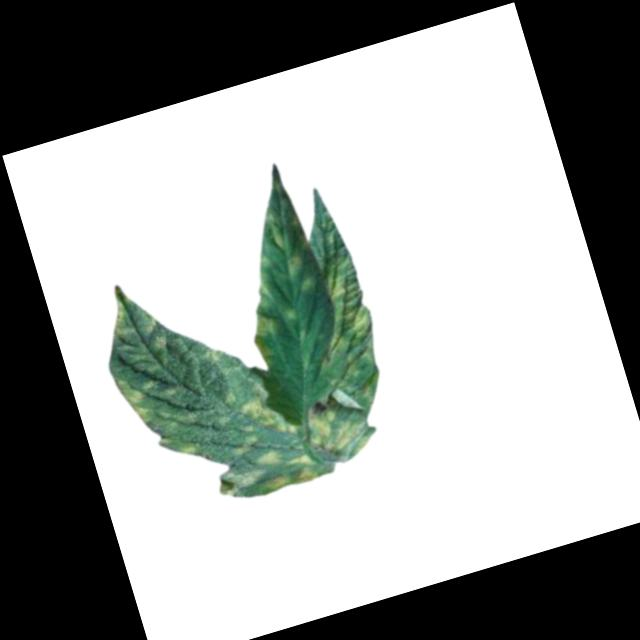Leaf_Mold: (267, 252, 411, 470), (192, 370, 318, 508), (112, 361, 201, 473), (244, 305, 289, 370), (284, 251, 313, 274)
